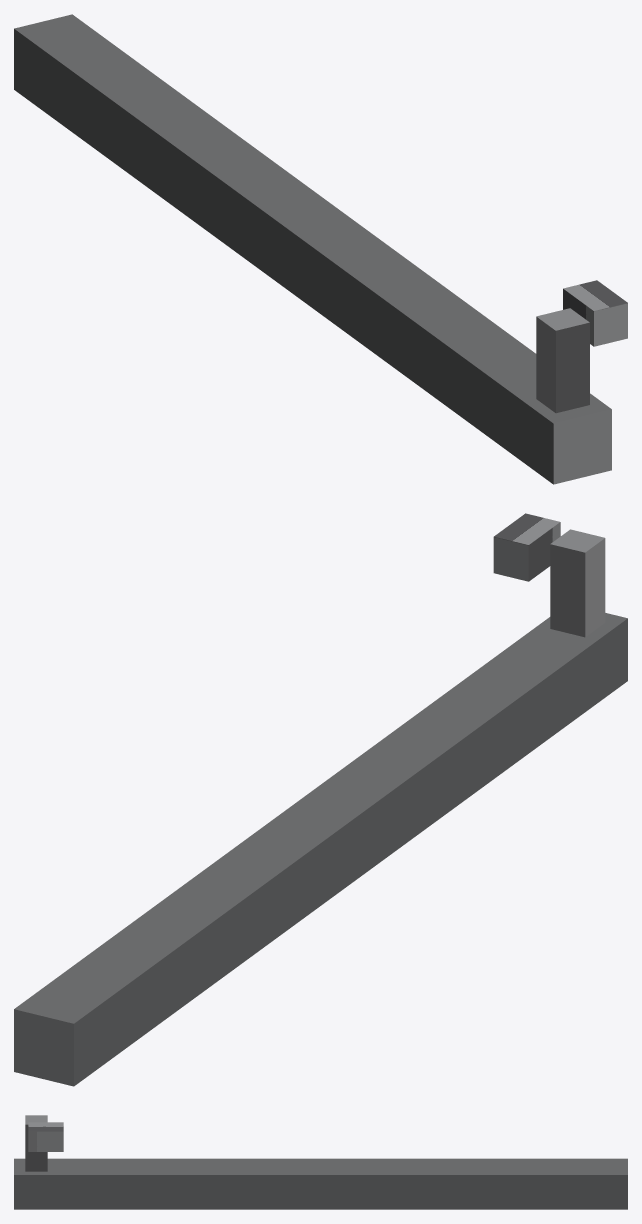
The picture shows the model from 3 angles, top to bottom: view 1: azimuth 30°, elevation 25°; view 2: azimuth 150°, elevation 25°; view 3: azimuth 270°, elevation 25°; orthographic projection. The views are drawn at different scales.
Size of the model in its own units: 0.0895 by 0.1485 by 0.96.
